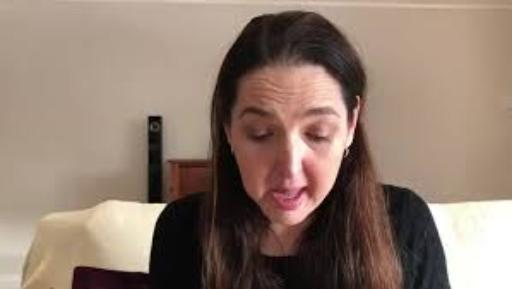left_eye: (305, 128, 331, 142)
left_lip_corner: (301, 185, 308, 193)
right_eye: (248, 125, 275, 143)
right_lip_corner: (267, 188, 277, 199)
